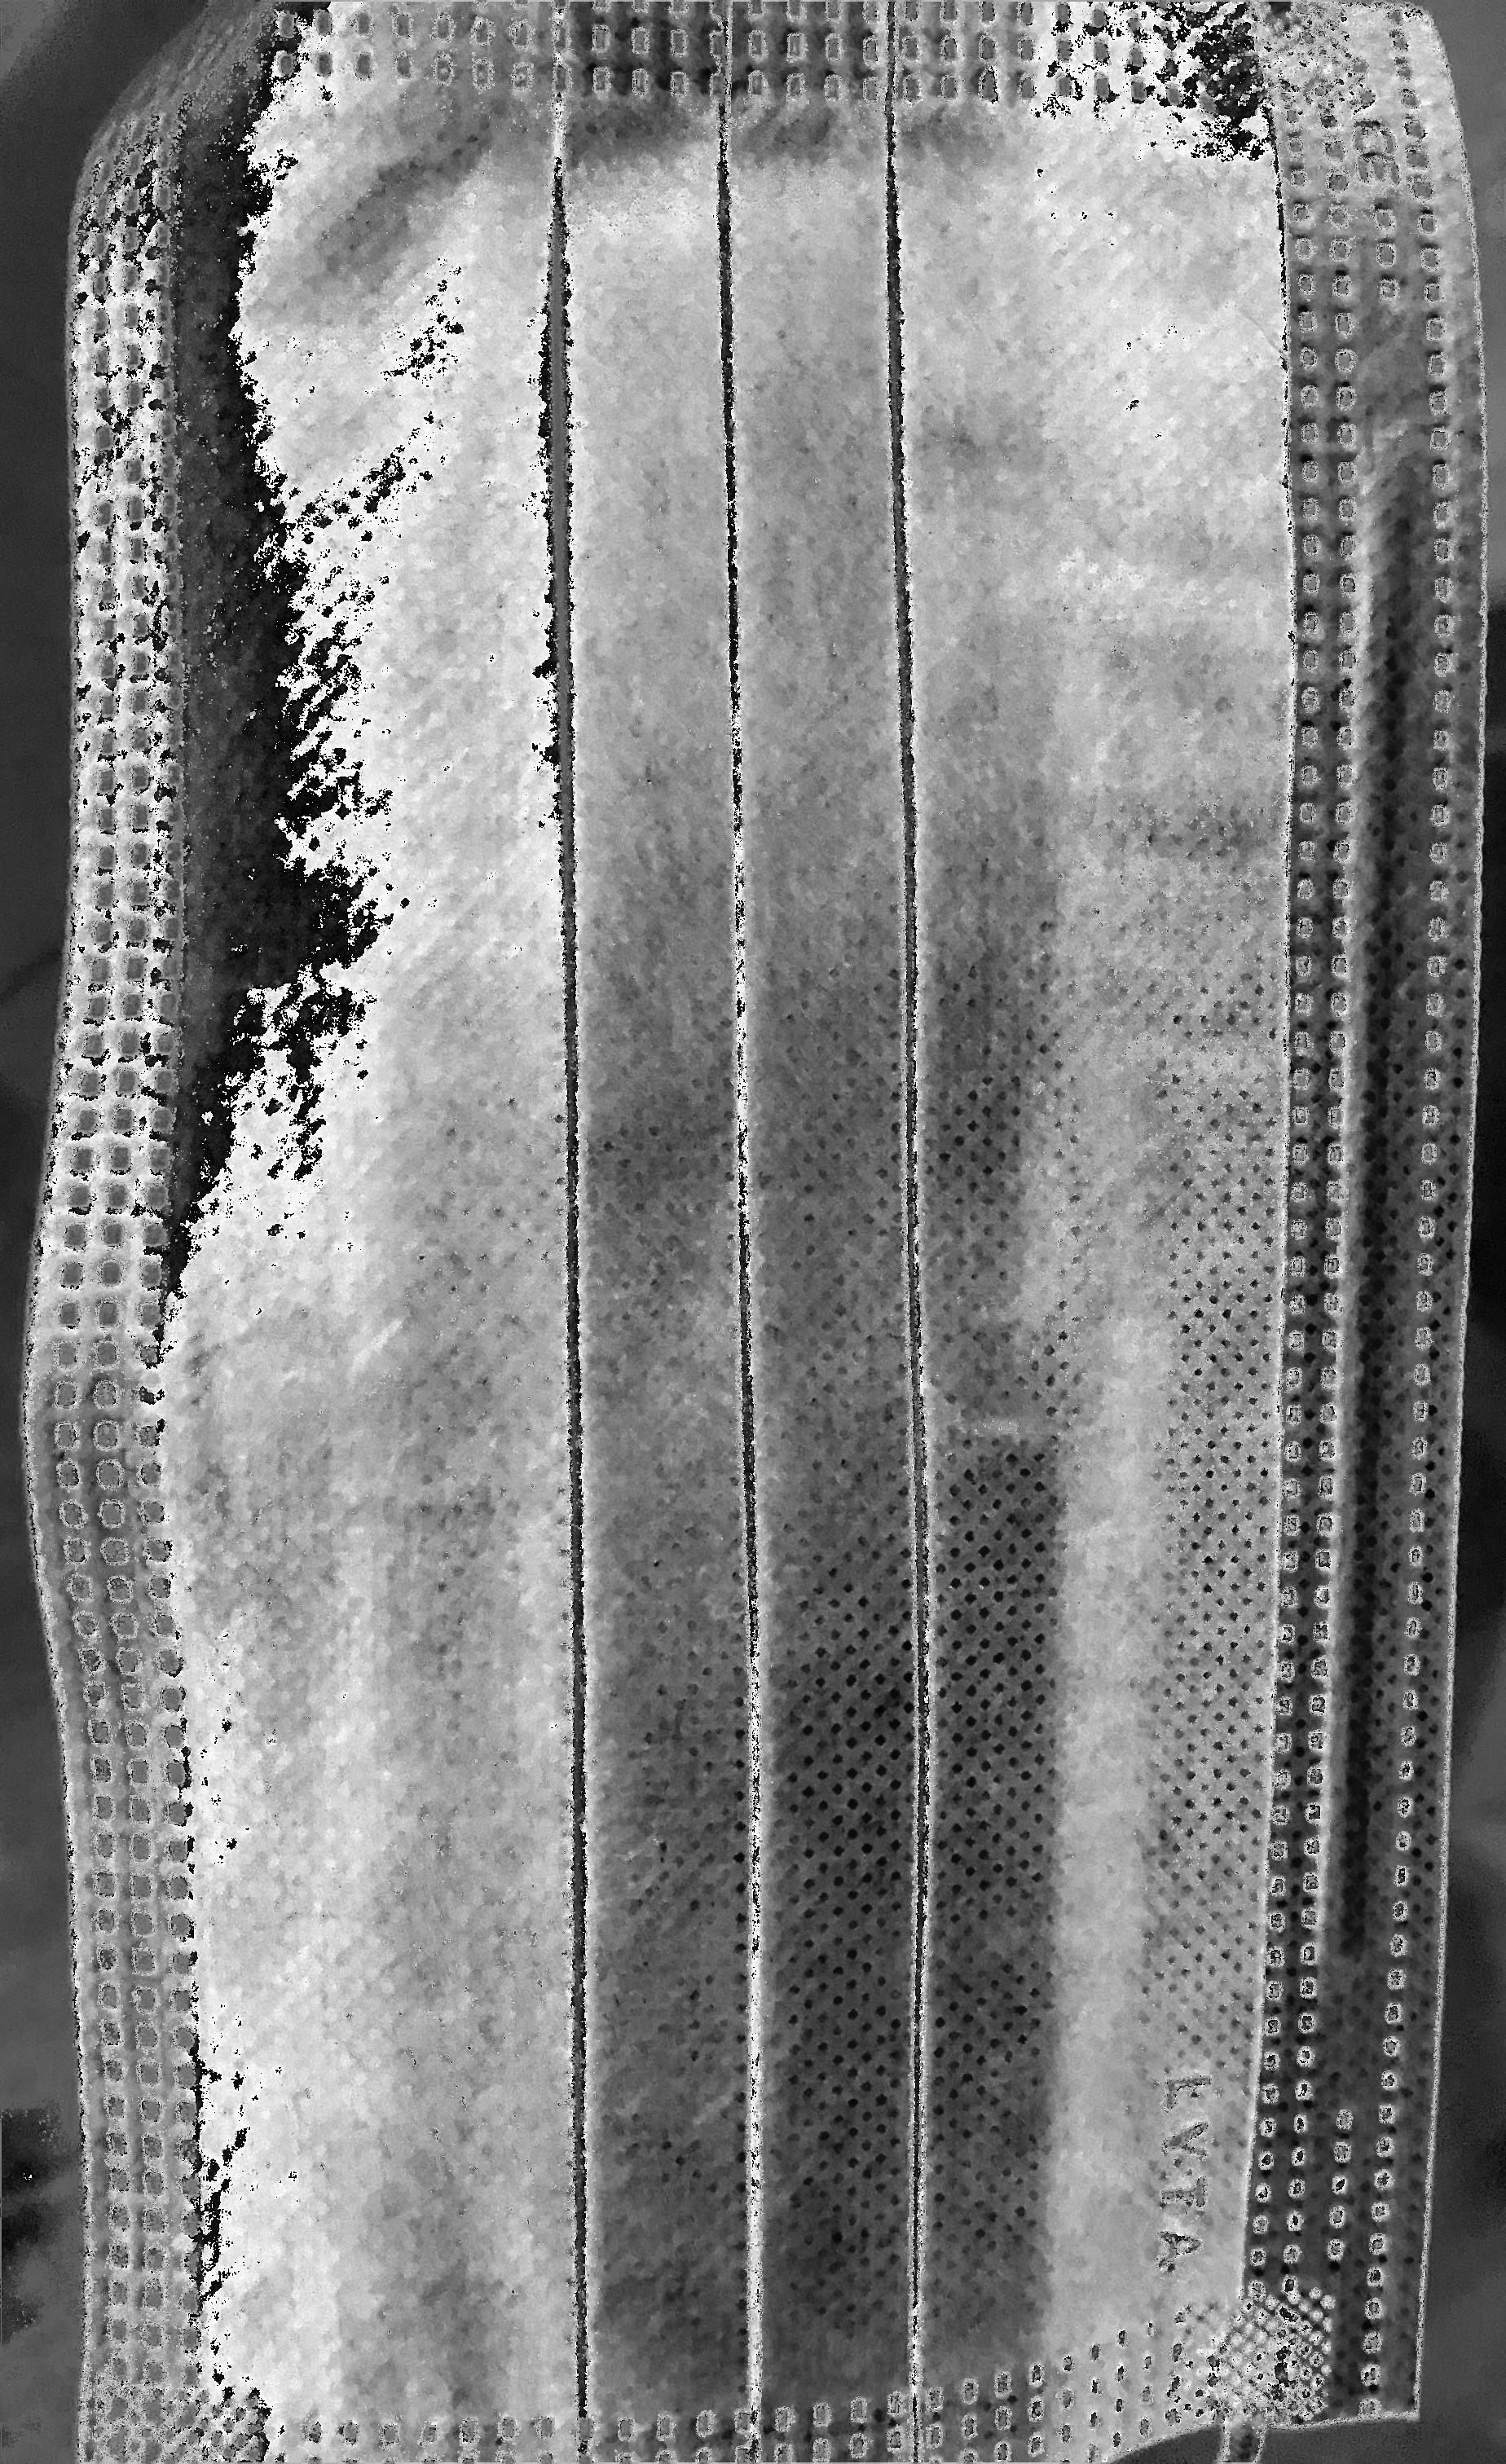High GSM: (1047, 121, 1281, 470), (586, 715, 744, 1126), (197, 1825, 382, 2070), (188, 723, 310, 1016)
